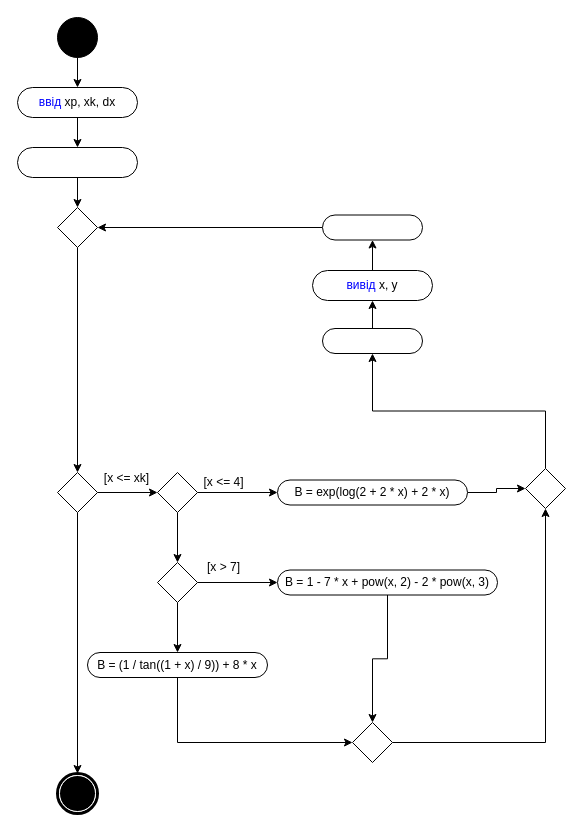
Image size: 583x831. Some labels were removed from this diagram. Here are the shapes that lost their labels. From the top down, the centre of each, then its label:
At (77,162): "x = xp".
At (372,227): "x += dx".
At (372,341): "y = 1 + x + B".
